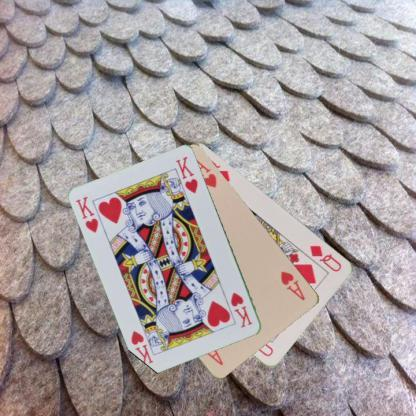Ah: (278, 268, 307, 302)
Kh: (73, 193, 100, 234), (228, 289, 254, 330)
Qd: (308, 242, 344, 273)
